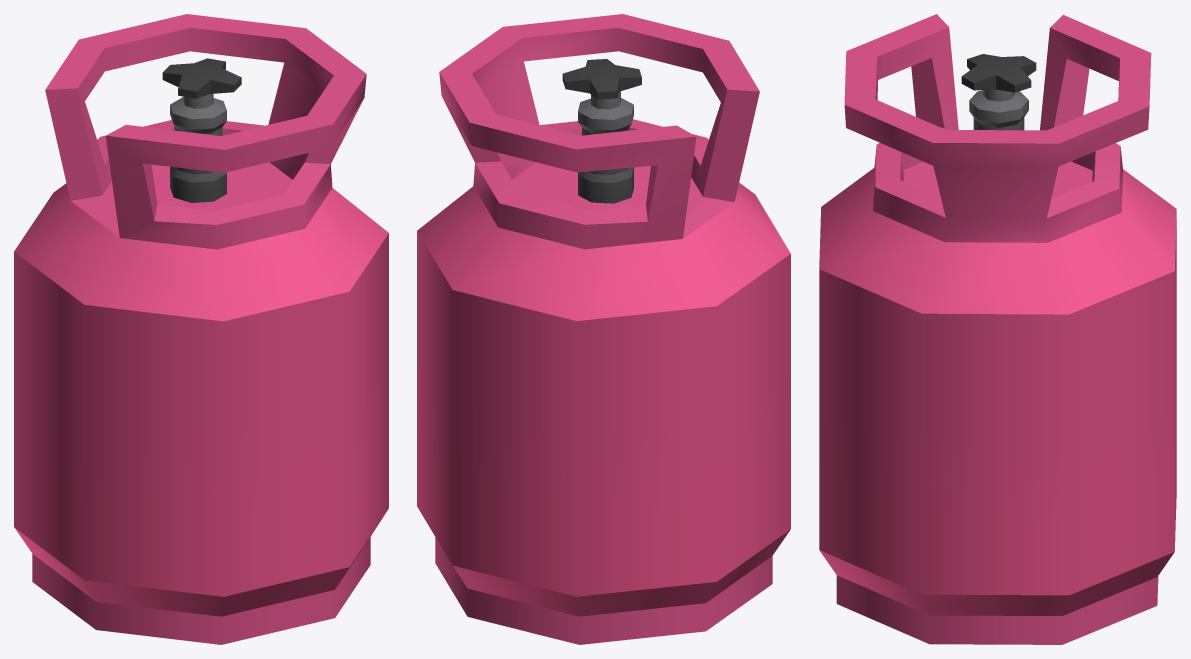
File: GasCylinder_2_5.fbx
3 renders of one model, left to right at view 1: azimuth 30°, elevation 25°; view 2: azimuth 150°, elevation 25°; view 3: azimuth 270°, elevation 25°, orthographic.
Parts seen in each view (by area): view 1: GasCylinder_2_5; view 2: GasCylinder_2_5; view 3: GasCylinder_2_5.
Boxes of the visible parts, left/top/right/bottom form: GasCylinder_2_5: left=14, top=14, right=388, bottom=644; GasCylinder_2_5: left=417, top=14, right=790, bottom=644; GasCylinder_2_5: left=819, top=14, right=1176, bottom=644.
Bounding box in the file's own units: 38.47 × 60.7 × 38.47.
